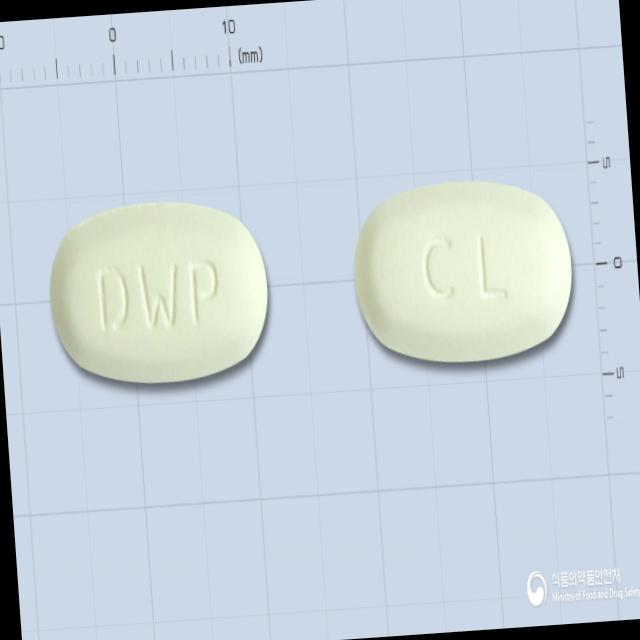Clacin: (40, 188, 279, 398), (344, 170, 581, 374)
